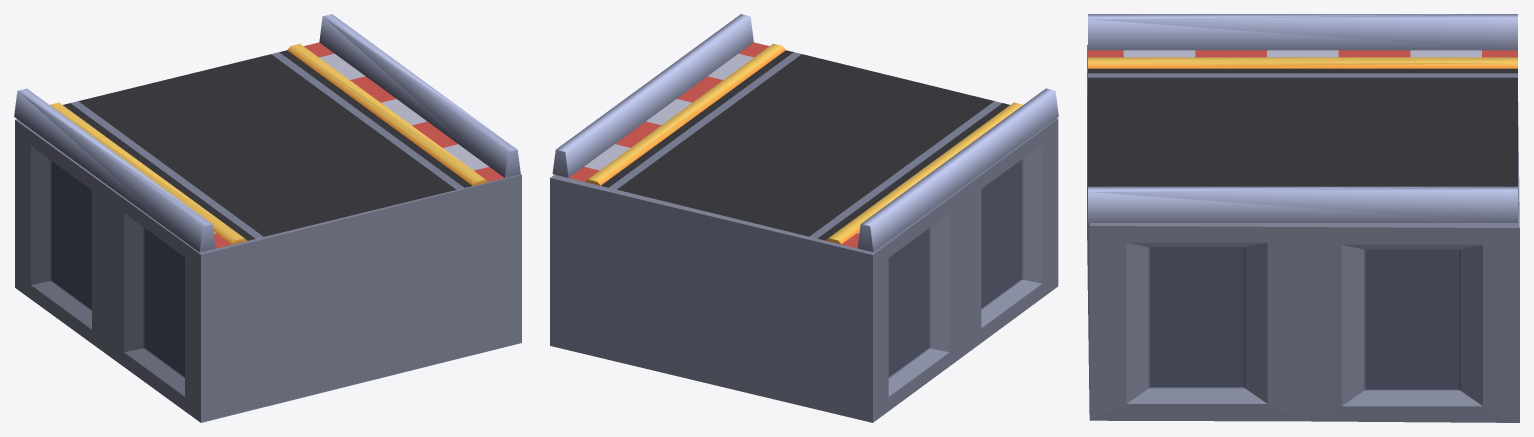
File: elev-track-straight.glb
3 views of the same model, side by side, from view 1: azimuth 30°, elevation 25°; view 2: azimuth 150°, elevation 25°; view 3: azimuth 270°, elevation 25° (orthographic). The views are drawn at different scales.
Visible parts, largest first — view 1: track-straight.001; view 2: track-straight.001; view 3: track-straight.001.
Boxes of the visible parts, <box> form: track-straight.001: <box>14,14,521,422</box>; track-straight.001: <box>550,14,1058,422</box>; track-straight.001: <box>1087,14,1519,422</box>.
Bounding box in the file's own units: 10.05 × 5.86 × 10.06.
2 materials, 2 textured.
